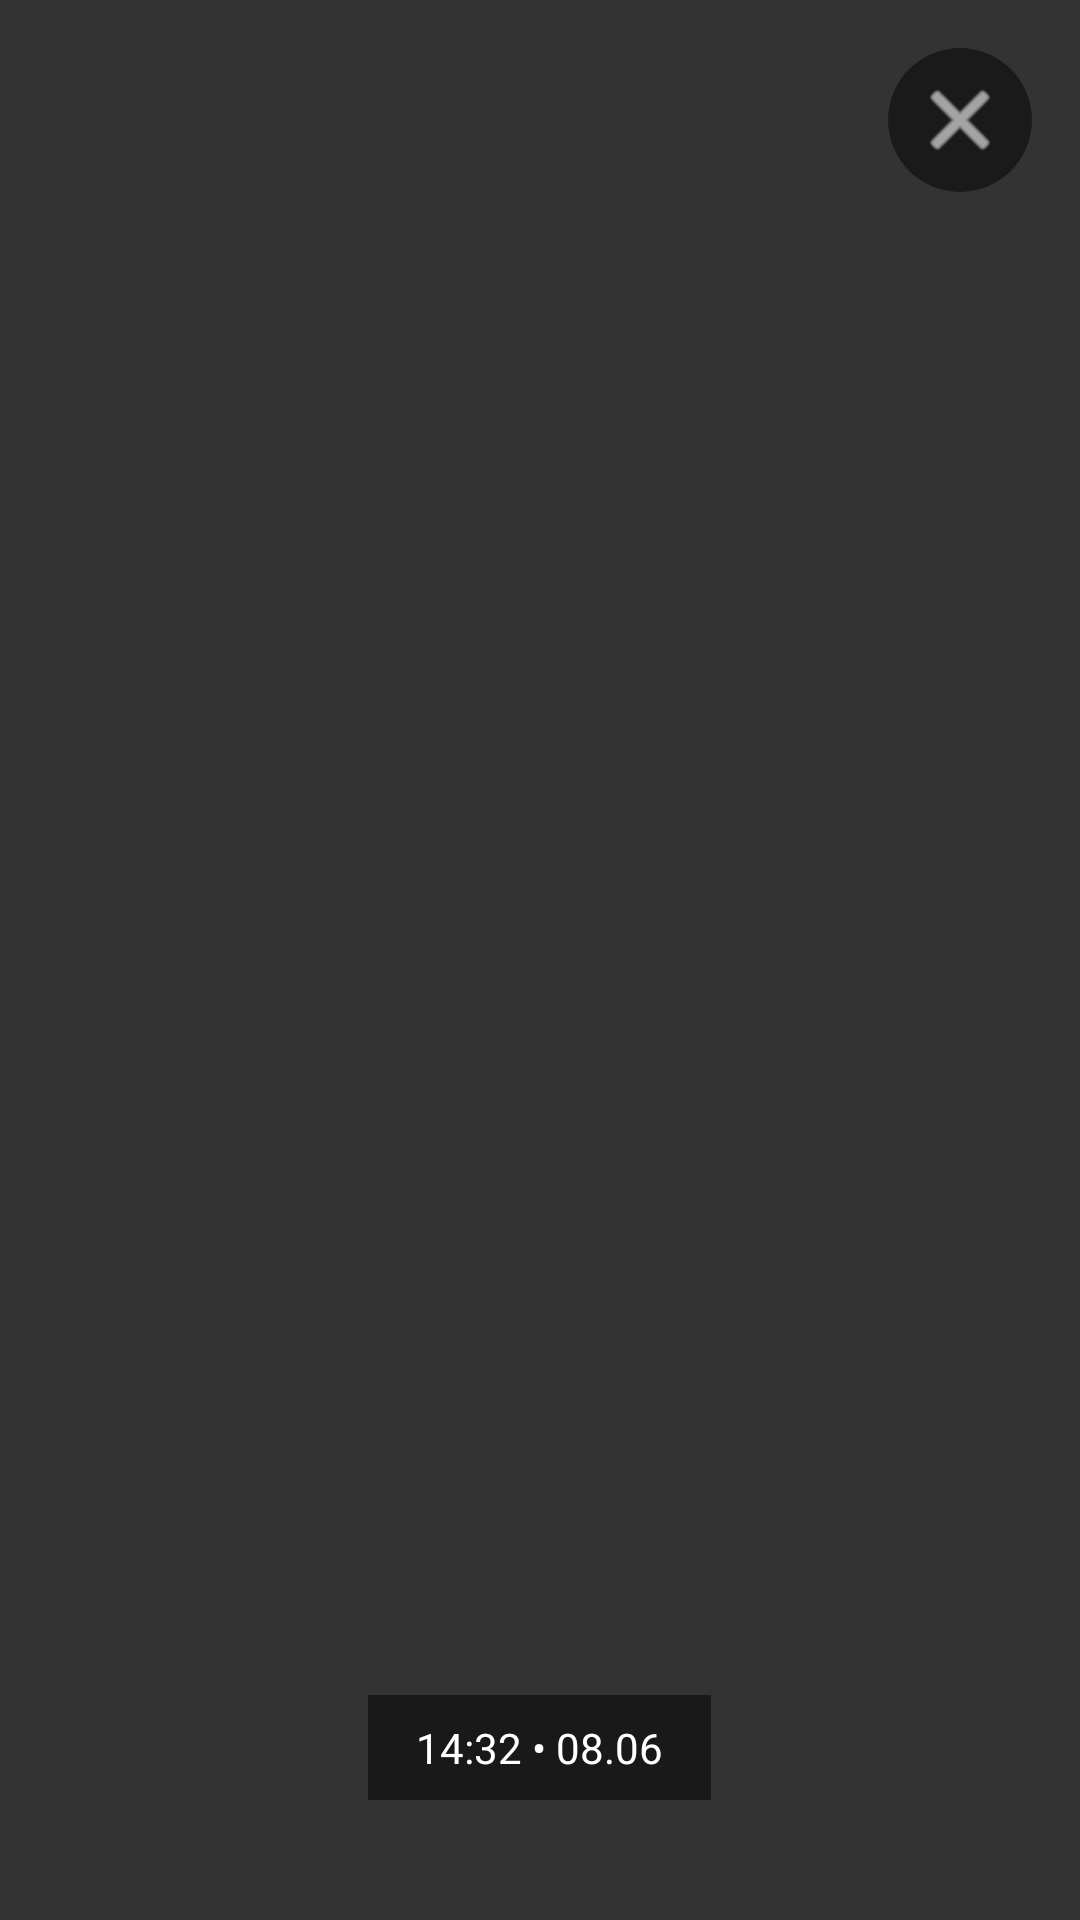

Named icons in this screenshot (1080*1920) and their centers, (x,y):
close clear cancel: (960,119)
